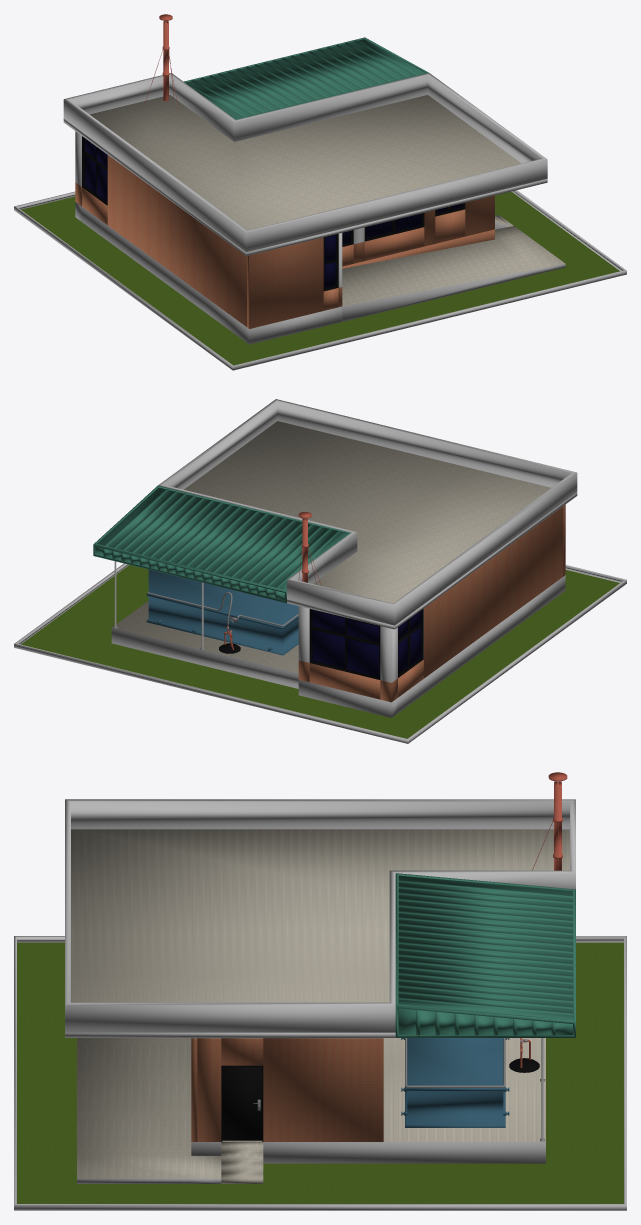
Rendered from edificio2.obj.
3 views of the same model, one above another, from view 1: azimuth 30°, elevation 25°; view 2: azimuth 150°, elevation 25°; view 3: azimuth 270°, elevation 25° (orthographic). The views are drawn at different scales.
Parts seen in each view (by area): view 1: ROOF, WALL, LAND, FLOOR, SHADE, WINDOW; view 2: ROOF, LAND, SHADE, WALL, FLOOR, MACHINE1, WINDOW, MACHINE2; view 3: ROOF, LAND, FLOOR, SHADE, WALL, MACHINE1, DOOR, MACHINE2.
Part boxes in pixels (x1=…): ROOF: x1=63, y1=14, x2=547, y2=255; WALL: x1=75, y1=131, x2=494, y2=328; LAND: x1=14, y1=190, x2=626, y2=370; FLOOR: x1=75, y1=202, x2=565, y2=344; SHADE: x1=184, y1=37, x2=428, y2=119; WINDOW: x1=82, y1=136, x2=465, y2=291; ROOF: x1=158, y1=399, x2=577, y2=629; LAND: x1=14, y1=563, x2=626, y2=743; SHADE: x1=93, y1=485, x2=350, y2=649; WALL: x1=298, y1=504, x2=565, y2=702; FLOOR: x1=111, y1=575, x2=565, y2=717; MACHINE1: x1=146, y1=569, x2=298, y2=655; WINDOW: x1=309, y1=608, x2=423, y2=679; MACHINE2: x1=147, y1=591, x2=298, y2=653; ROOF: x1=65, y1=772, x2=575, y2=1037; LAND: x1=14, y1=936, x2=626, y2=1210; FLOOR: x1=77, y1=1038, x2=545, y2=1183; SHADE: x1=395, y1=873, x2=575, y2=1141; WALL: x1=191, y1=1038, x2=383, y2=1141; MACHINE1: x1=401, y1=1038, x2=509, y2=1127; DOOR: x1=221, y1=1065, x2=263, y2=1141; MACHINE2: x1=405, y1=1038, x2=539, y2=1087.
Size of the model in its own units: 63.59 by 27.77 by 61.19.
11 materials, 7 textured.
